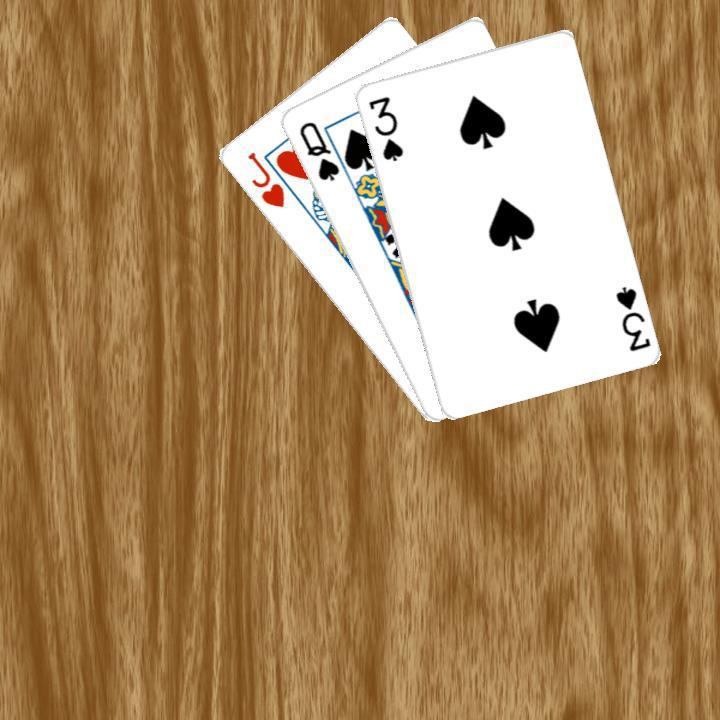3: (363, 91, 405, 163), (610, 282, 652, 353)
J: (242, 147, 287, 210)
Q: (294, 117, 341, 183)
